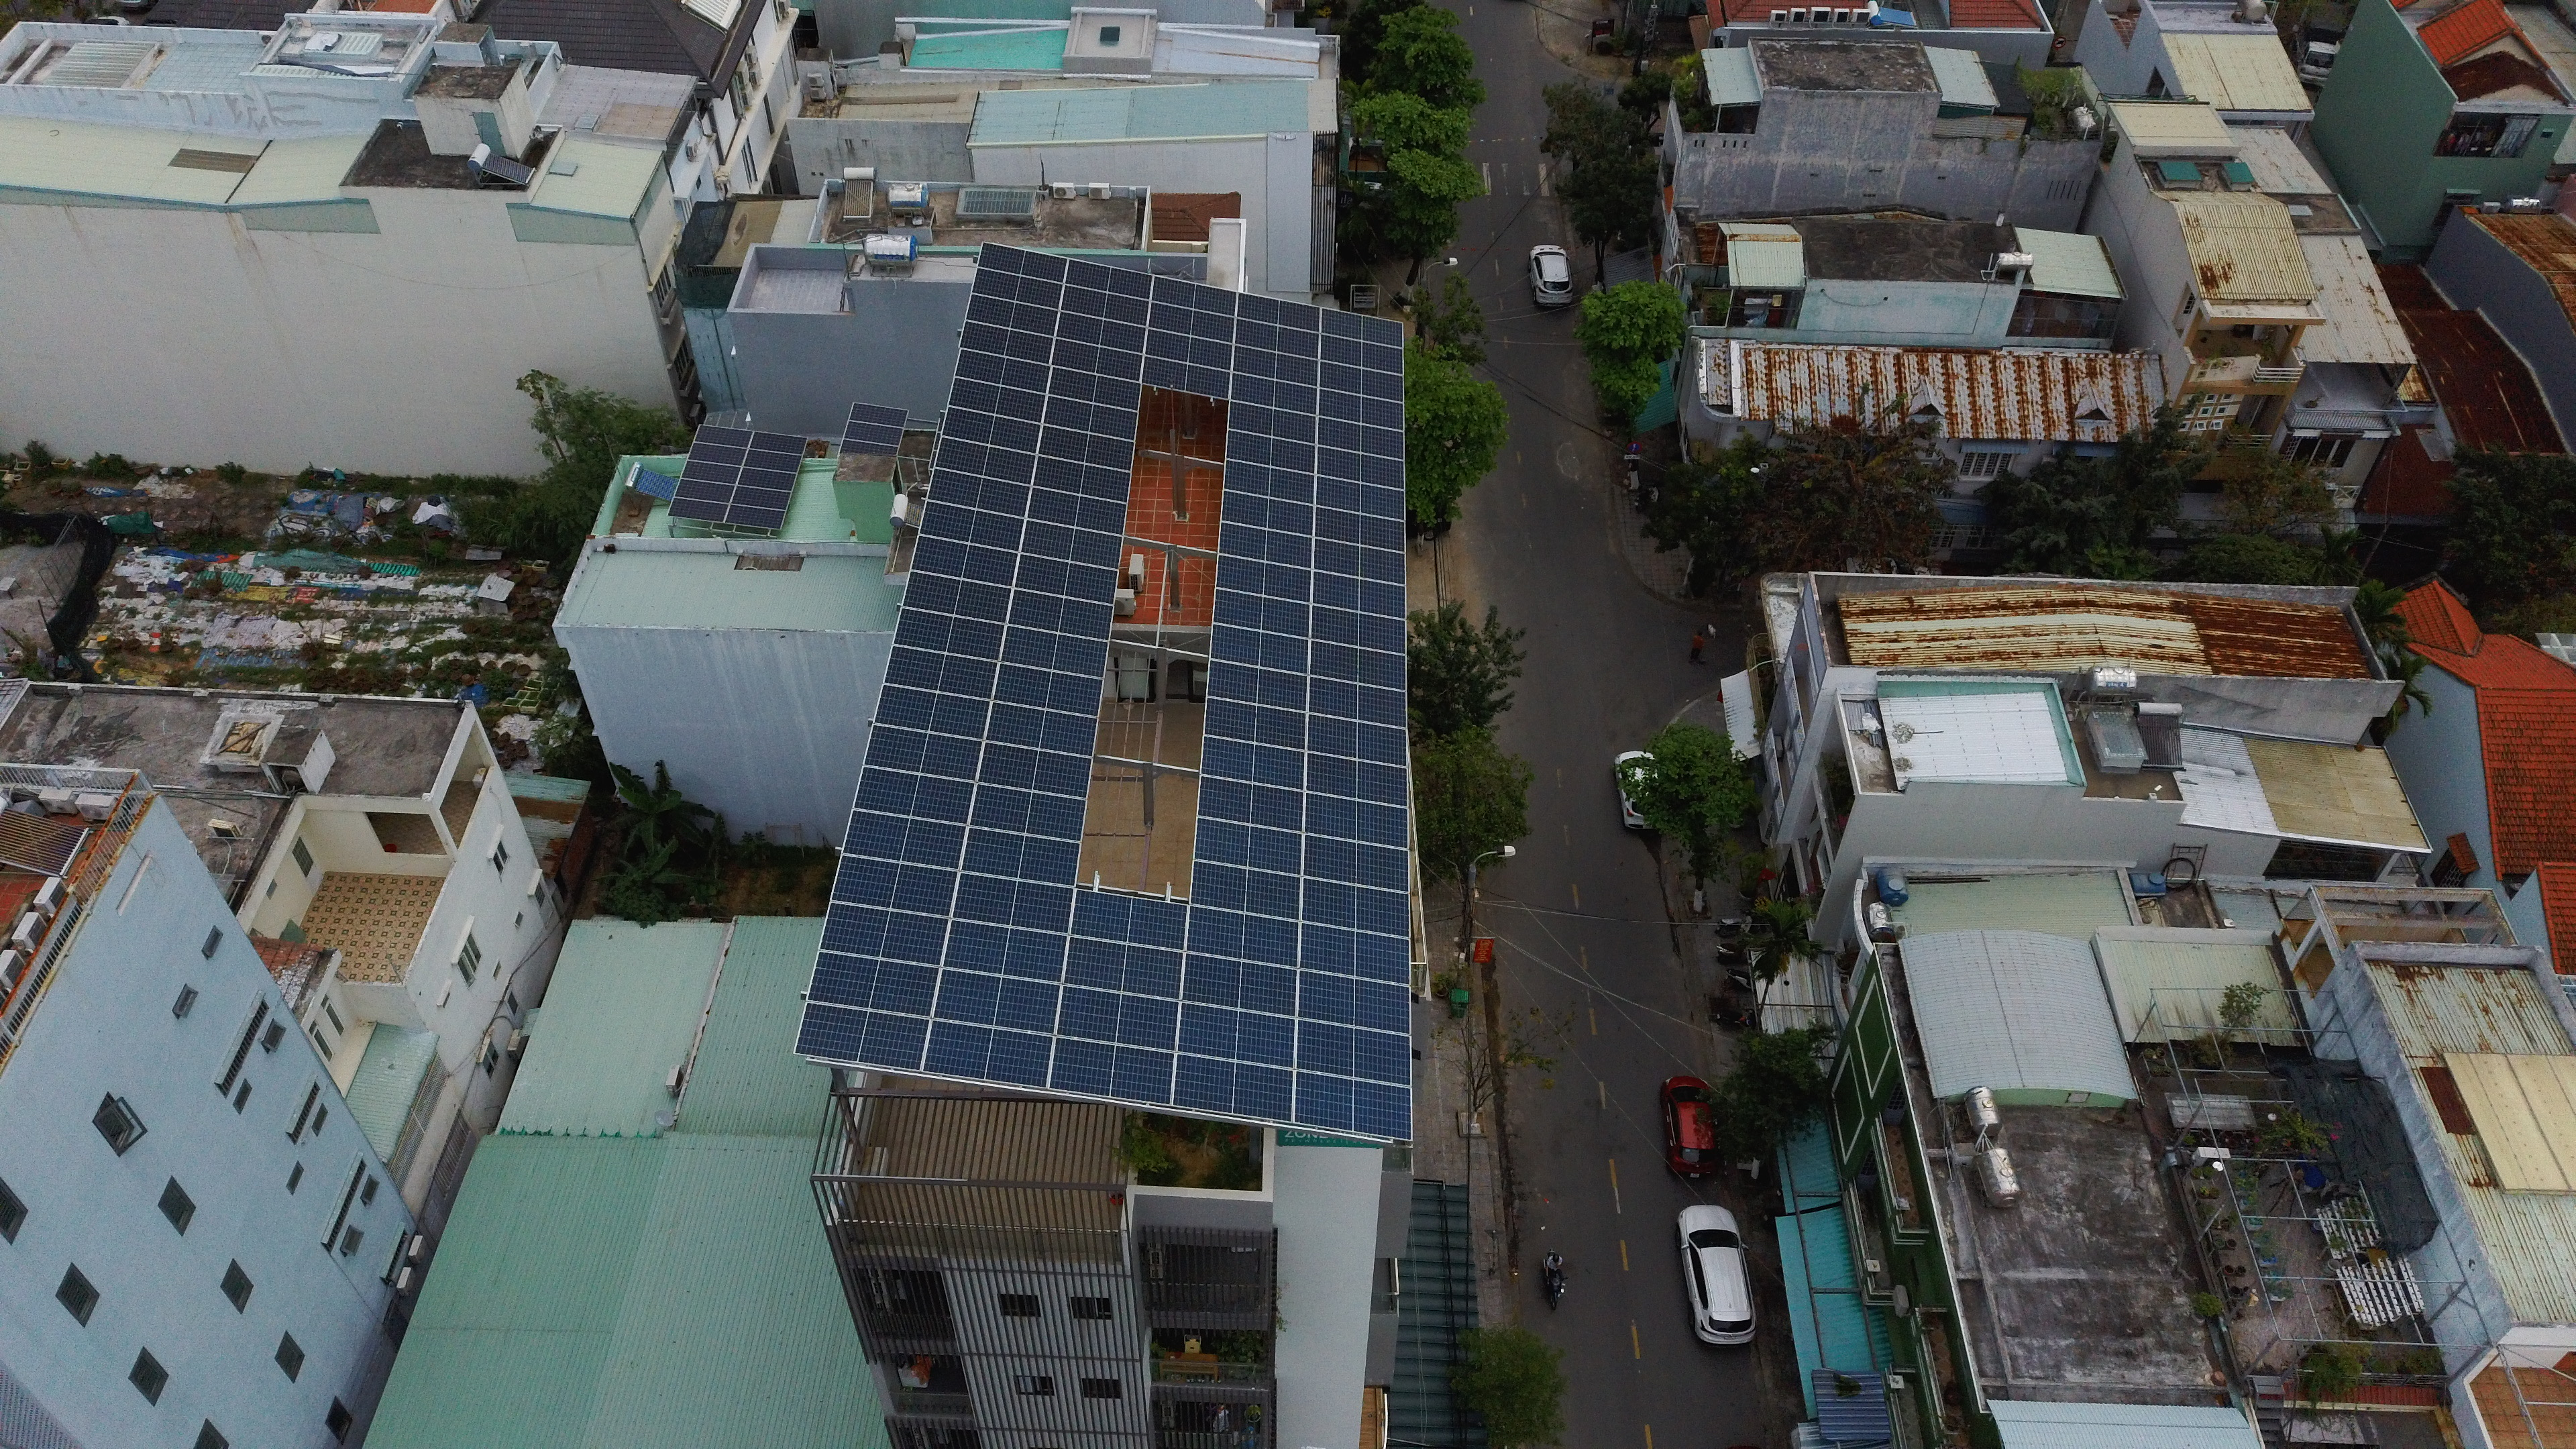solar: (801, 947, 941, 1019), (793, 998, 932, 1070), (1166, 1049, 1297, 1125), (936, 916, 1070, 987), (929, 964, 1063, 1035), (920, 1016, 1054, 1086), (817, 897, 950, 968), (1173, 1000, 1299, 1072), (1060, 886, 1191, 955), (1058, 932, 1189, 1001), (1046, 1039, 1177, 1108), (1053, 982, 1182, 1051), (830, 851, 957, 920), (819, 897, 945, 966), (962, 778, 1088, 847), (950, 867, 1074, 936), (957, 824, 1083, 892), (1293, 970, 1412, 1040), (1292, 1017, 1410, 1088), (1292, 1069, 1410, 1139), (1182, 904, 1302, 971), (1178, 948, 1297, 1016), (1191, 810, 1304, 878), (1187, 855, 1300, 922), (1297, 828, 1408, 895), (1299, 872, 1410, 939), (1297, 922, 1408, 989), (867, 683, 991, 743), (860, 720, 984, 780), (851, 764, 975, 824), (842, 809, 966, 869), (973, 740, 1093, 801), (1200, 688, 1309, 755), (1198, 731, 1307, 796), (1194, 770, 1304, 835), (982, 697, 1099, 755), (989, 660, 1104, 718), (881, 648, 1000, 704), (1300, 708, 1407, 770), (1302, 747, 1408, 809), (1300, 787, 1407, 849), (893, 605, 1005, 663), (1010, 552, 1120, 610), (1203, 655, 1311, 713), (1003, 584, 1113, 640), (998, 625, 1108, 681), (899, 570, 1016, 623), (1028, 451, 1132, 506), (1017, 517, 1122, 571), (1208, 619, 1313, 674), (916, 501, 1026, 552), (1215, 518, 1318, 573), (1210, 584, 1313, 639), (1024, 485, 1129, 538), (911, 536, 1019, 587), (1214, 550, 1315, 605), (1304, 676, 1405, 729), (924, 467, 1030, 517), (1306, 640, 1405, 694), (1047, 334, 1148, 386), (1040, 395, 1141, 446), (1033, 421, 1132, 472), (941, 405, 1042, 455), (934, 435, 1035, 485), (1044, 364, 1145, 414), (1309, 570, 1407, 619), (1307, 603, 1405, 653), (1138, 327, 1235, 375), (1230, 317, 1325, 364), (1311, 416, 1407, 464), (1313, 478, 1408, 525), (1313, 359, 1407, 407), (1313, 386, 1407, 433), (1315, 446, 1408, 494), (1313, 508, 1407, 556), (1311, 538, 1405, 586), (975, 239, 1072, 285), (970, 264, 1067, 310), (947, 377, 1044, 423), (1062, 258, 1159, 304), (1056, 283, 1154, 329), (1145, 272, 1242, 318), (1139, 301, 1237, 347), (1226, 292, 1323, 338), (1228, 345, 1325, 391), (1224, 398, 1322, 444), (1221, 460, 1318, 506), (1221, 490, 1318, 536), (964, 290, 1060, 336), (959, 320, 1054, 366), (954, 350, 1049, 396), (1053, 306, 1148, 352), (1141, 354, 1237, 400), (1226, 370, 1322, 416), (1223, 430, 1318, 476), (1311, 306, 1407, 352), (1313, 331, 1408, 377), (729, 481, 794, 511), (686, 441, 750, 471), (690, 423, 755, 451), (679, 458, 745, 487), (665, 495, 731, 524), (745, 430, 810, 458), (741, 446, 807, 474), (734, 465, 800, 494), (724, 502, 789, 531), (674, 478, 738, 506), (847, 402, 909, 428), (842, 419, 904, 446), (839, 437, 901, 456)
